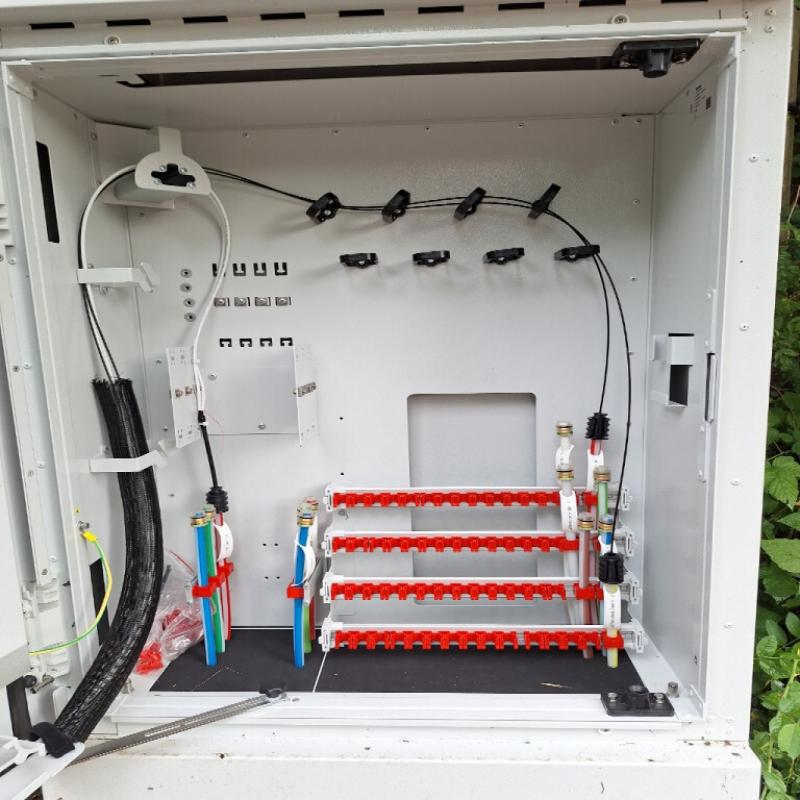NT-Gehause: (0, 2, 754, 793)
